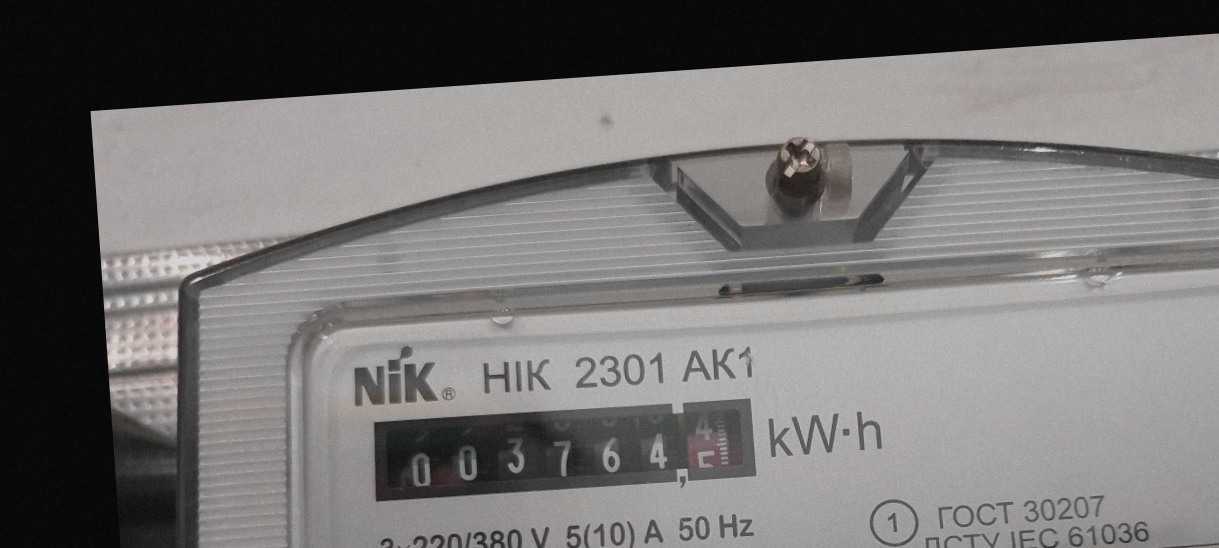0: (407, 449, 434, 488), (455, 442, 479, 483)
3: (502, 434, 528, 476)
4: (647, 430, 669, 471), (692, 409, 715, 442)
5: (694, 447, 718, 470)
6: (599, 434, 622, 474)
7: (551, 436, 576, 479)
screen: (355, 379, 772, 517)
